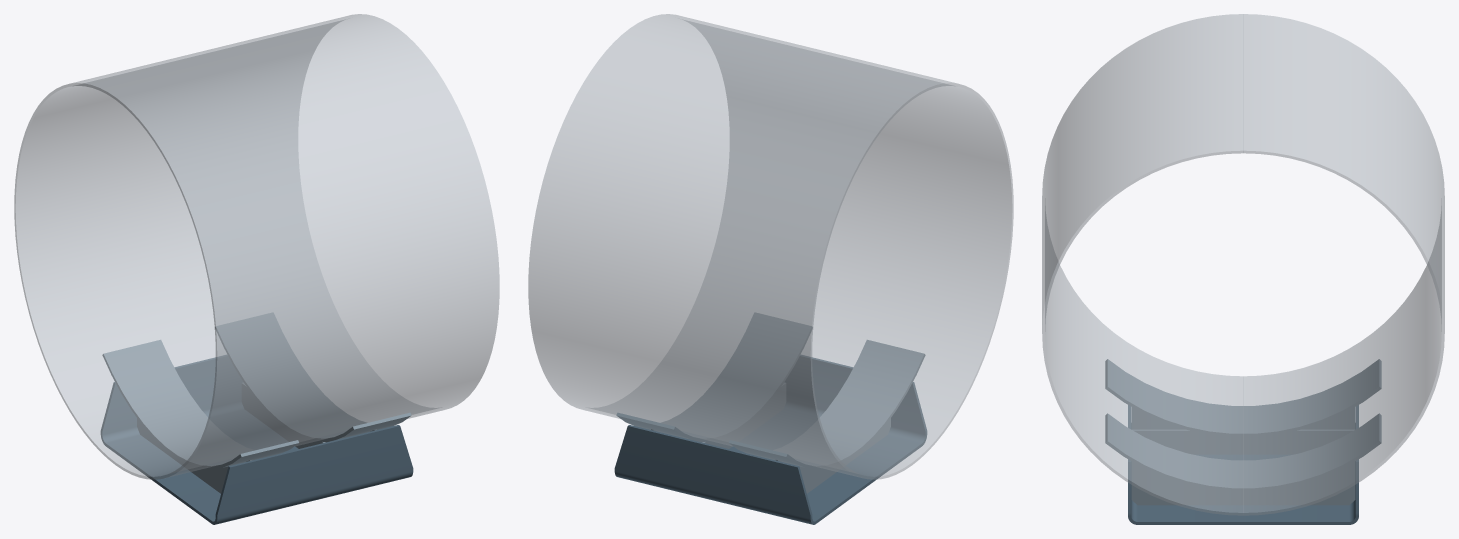
The model's file is TS-624.000-111-opora-dn1220-H100-L680.glb.
The picture shows the model from 3 angles, left to right: view 1: azimuth 30°, elevation 25°; view 2: azimuth 150°, elevation 25°; view 3: azimuth 270°, elevation 25°; orthographic projection.
Visible parts, largest first — view 1: truba, skoba, podushka_0, podushka_1, rebro4_1, rebro3_0; view 2: truba, skoba, podushka_0, podushka_1, rebro4_1, rebro3_0; view 3: truba, podushka_1, podushka_0, skoba, rebro3_1, rebro4_0, rebro3_0.
Boxes of the visible parts, box(x1,y1,x2,y2) form: truba: box(14, 14, 499, 479); skoba: box(100, 355, 413, 524); podushka_0: box(102, 340, 298, 469); podushka_1: box(215, 313, 411, 441); rebro4_1: box(242, 383, 325, 448); rebro3_0: box(137, 418, 251, 493); truba: box(528, 14, 1013, 479); skoba: box(614, 355, 927, 524); podushka_0: box(729, 340, 925, 469); podushka_1: box(616, 313, 812, 441); rebro4_1: box(702, 383, 785, 448); rebro3_0: box(776, 418, 890, 493); truba: box(1042, 14, 1444, 515); podushka_1: box(1105, 413, 1381, 491); podushka_0: box(1105, 359, 1381, 436); skoba: box(1128, 405, 1358, 524); rebro3_1: box(1131, 462, 1355, 505); rebro4_0: box(1132, 429, 1354, 454); rebro3_0: box(1131, 407, 1355, 429).
Size of the model in its own units: 980 by 1321 by 1220.
